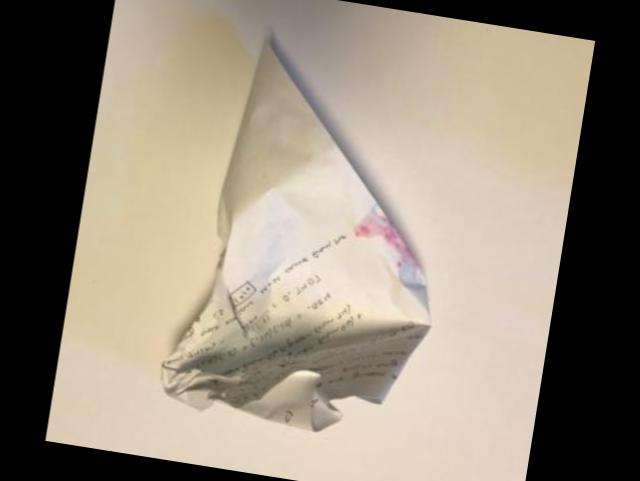cardboard paper: (164, 42, 431, 431)
